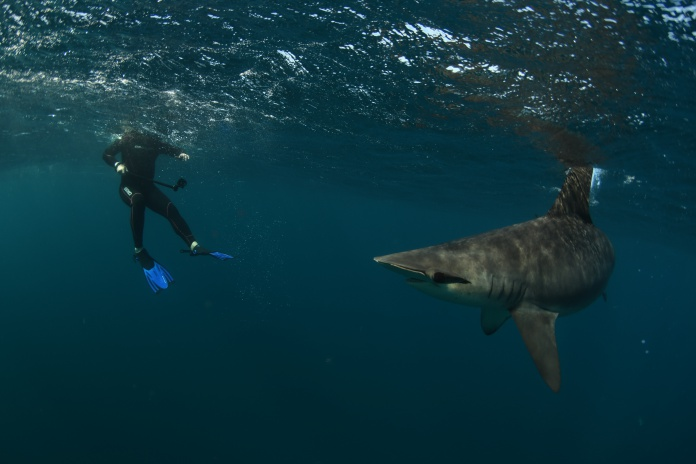Hammer: (358, 152, 638, 393)
